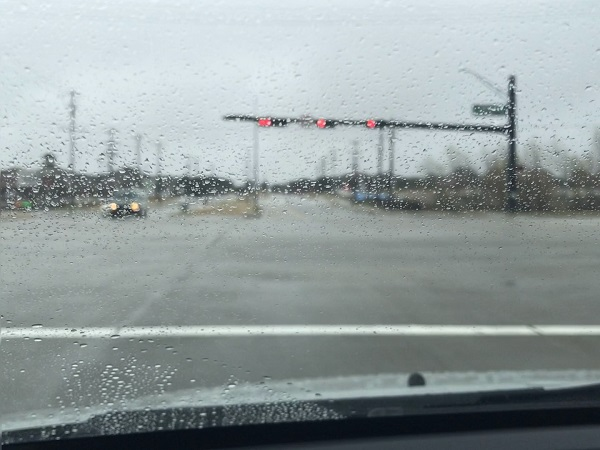car: (108, 187, 150, 220)
traffic light: (258, 117, 271, 128), (313, 118, 327, 127), (365, 120, 376, 127)
